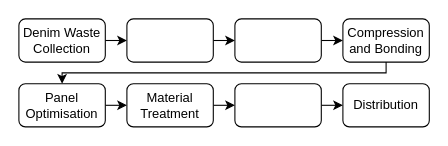
Image size: 448x146. Some labels were removed from this diagram. Each missing label, with the centre of its shape:
"Cleaning and Shredding" goes at point (277, 40).
"Panel Cutting and Sizing" goes at point (277, 105).
"Sorting Denim" goes at point (169, 40).
